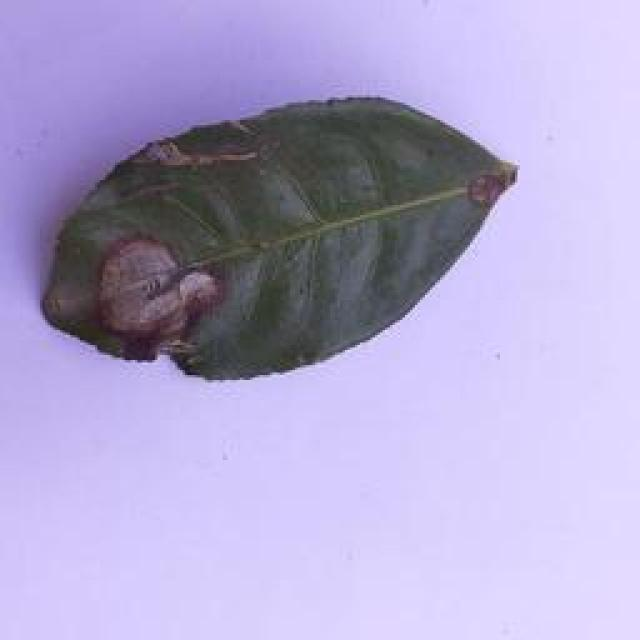Gray Blight: (38, 99, 522, 385)
